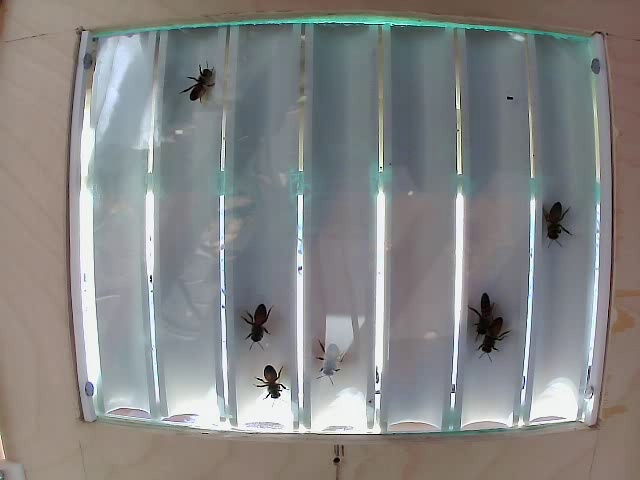bee: (450, 302, 500, 365), (223, 297, 281, 340), (189, 49, 235, 101), (537, 193, 576, 239), (304, 334, 347, 367), (248, 369, 285, 402)
